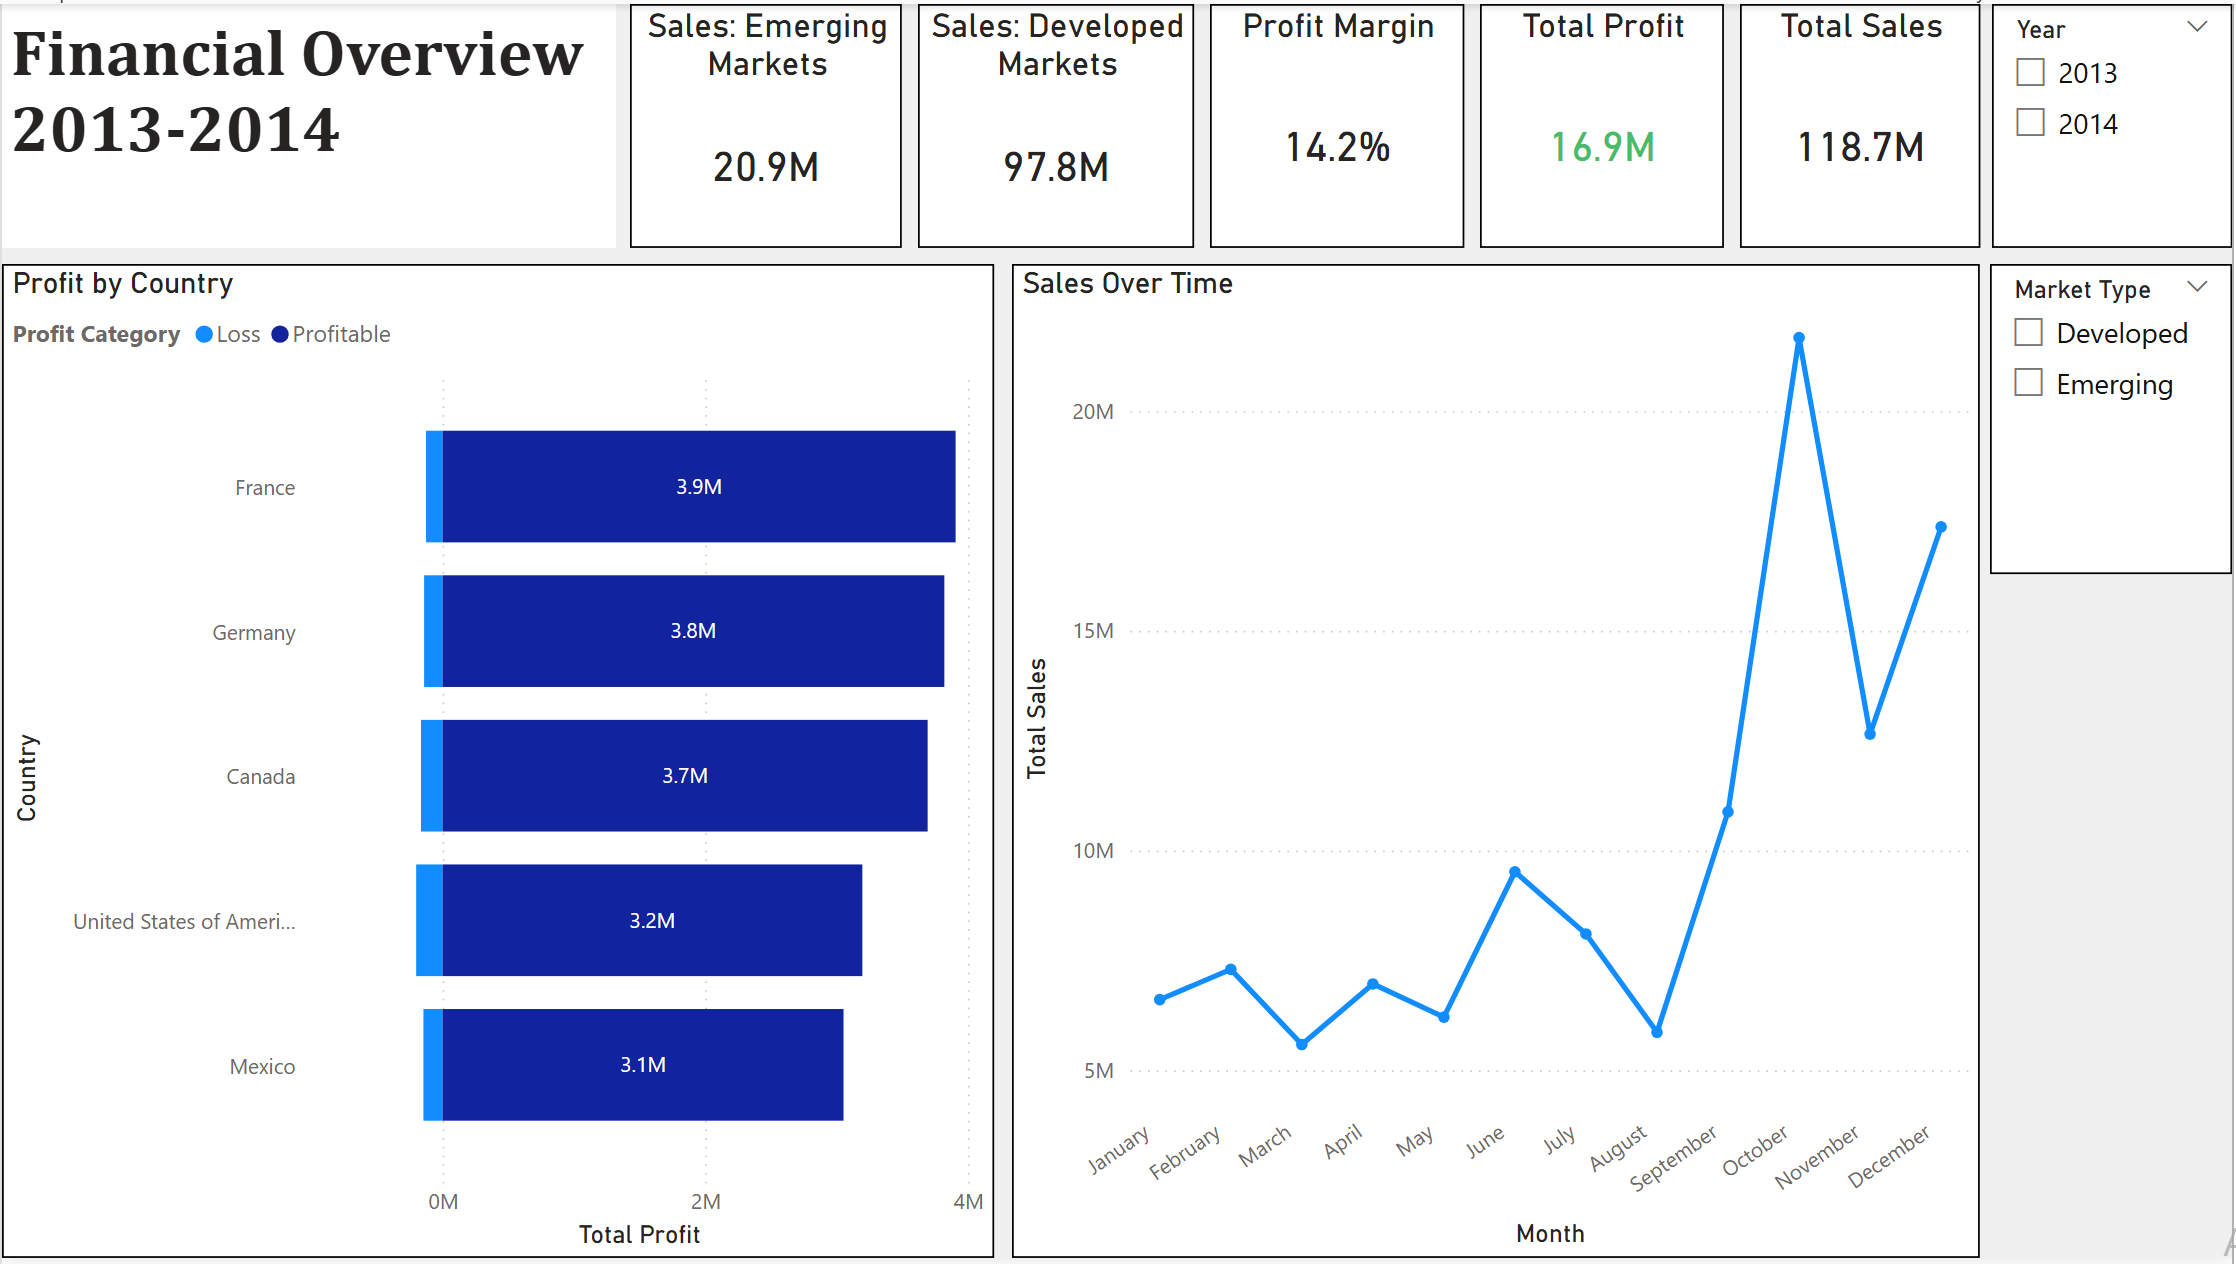

What the dashboard file says about the page in this screenshot:
{"tool":"powerbi","page":{"name":"Overview","canvas":[1280,720],"ordinal":0},"visuals":[{"type":"barChart","title":"Profit by Country","fields":{"Category":["financials.Country"],"Series":["financials.Profit Category"],"Y":["_Measures.Total Profit"]},"box":[0,149.2,569.4,571.7],"z":0},{"type":"card","title":"Total Sales","fields":{"Values":["financials.Total Sales"]},"box":[997.6,0,137.8,140.1],"z":1000},{"type":"slicer","fields":{"Values":["financials.Year"]},"box":[1142.2,0,137.8,140.1],"z":2000},{"type":"lineChart","title":"Sales Over Time","fields":{"Category":["financials.Date.Variation.Date Hierarchy.Year","financials.Date.Variation.Date Hierarchy.Quarter","financials.Date.Variation.Date Hierarchy.Month","financials.Date.Variation.Date Hierarchy.Day"],"Y":["_Measures.Total Sales"]},"box":[579.7,149.2,555.6,570.5],"z":3000},{"type":"textbox","box":[0,0,352.4,140.1],"z":4000},{"type":"card","title":"Total Profit","fields":{"Values":["financials.Total Profit"]},"box":[848.4,0,140.1,140.1],"z":5000},{"type":"card","title":"Profit Margin","fields":{"Values":["financials.Profit Margin %"]},"box":[693.4,0,145.8,140.1],"z":6000},{"type":"card","title":"Sales: Developed Markets","fields":{"Values":["_Measures.Developed Market Sales"]},"box":[525.8,0,158.4,140.1],"z":7000},{"type":"card","title":"Sales: Emerging Markets","fields":{"Values":["_Measures.Emerging Market Sales"]},"box":[360.5,0,156.1,140.1],"z":8000},{"type":"slicer","fields":{"Values":["Countries.Market Type"]},"box":[1141.1,149.2,138.9,177.9],"z":8001}]}

Visuals, with their boxes in screenshot pixels (x1, y1, x2, y2), scaled from the page's 1280x720 canvas onto the 2236x1264 screenshot:
"Profit by Country" barChart: [x1=0, y1=262, x2=995, y2=1263]
"Total Sales" card: [x1=1743, y1=0, x2=1983, y2=246]
slicer - financials.Year: [x1=1995, y1=0, x2=2235, y2=246]
"Sales Over Time" lineChart: [x1=1013, y1=262, x2=1983, y2=1263]
textbox: [x1=0, y1=0, x2=616, y2=246]
"Total Profit" card: [x1=1482, y1=0, x2=1727, y2=246]
"Profit Margin" card: [x1=1211, y1=0, x2=1466, y2=246]
"Sales: Developed Markets" card: [x1=919, y1=0, x2=1195, y2=246]
"Sales: Emerging Markets" card: [x1=630, y1=0, x2=902, y2=246]
slicer - Countries.Market Type: [x1=1993, y1=262, x2=2235, y2=574]
